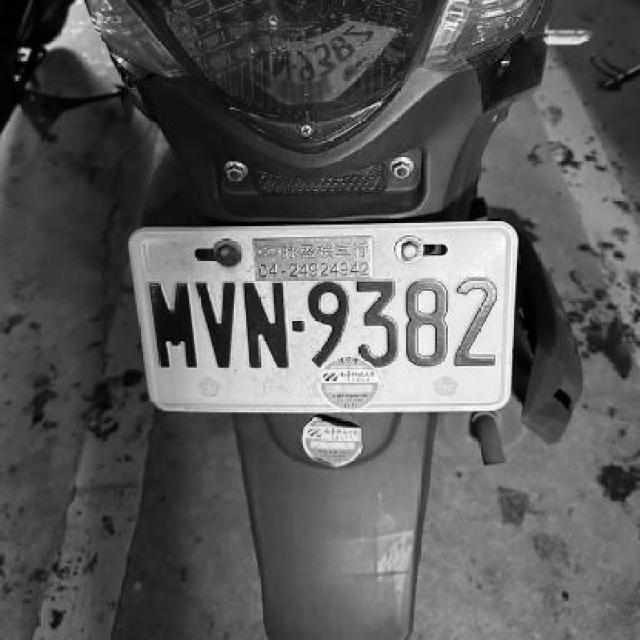-: (292, 318, 305, 332)
2: (449, 271, 500, 369)
3: (355, 277, 400, 366)
8: (402, 274, 448, 368)
9: (303, 277, 352, 365)
M: (146, 278, 197, 369)
N: (240, 276, 289, 366)
V: (197, 277, 241, 366)
